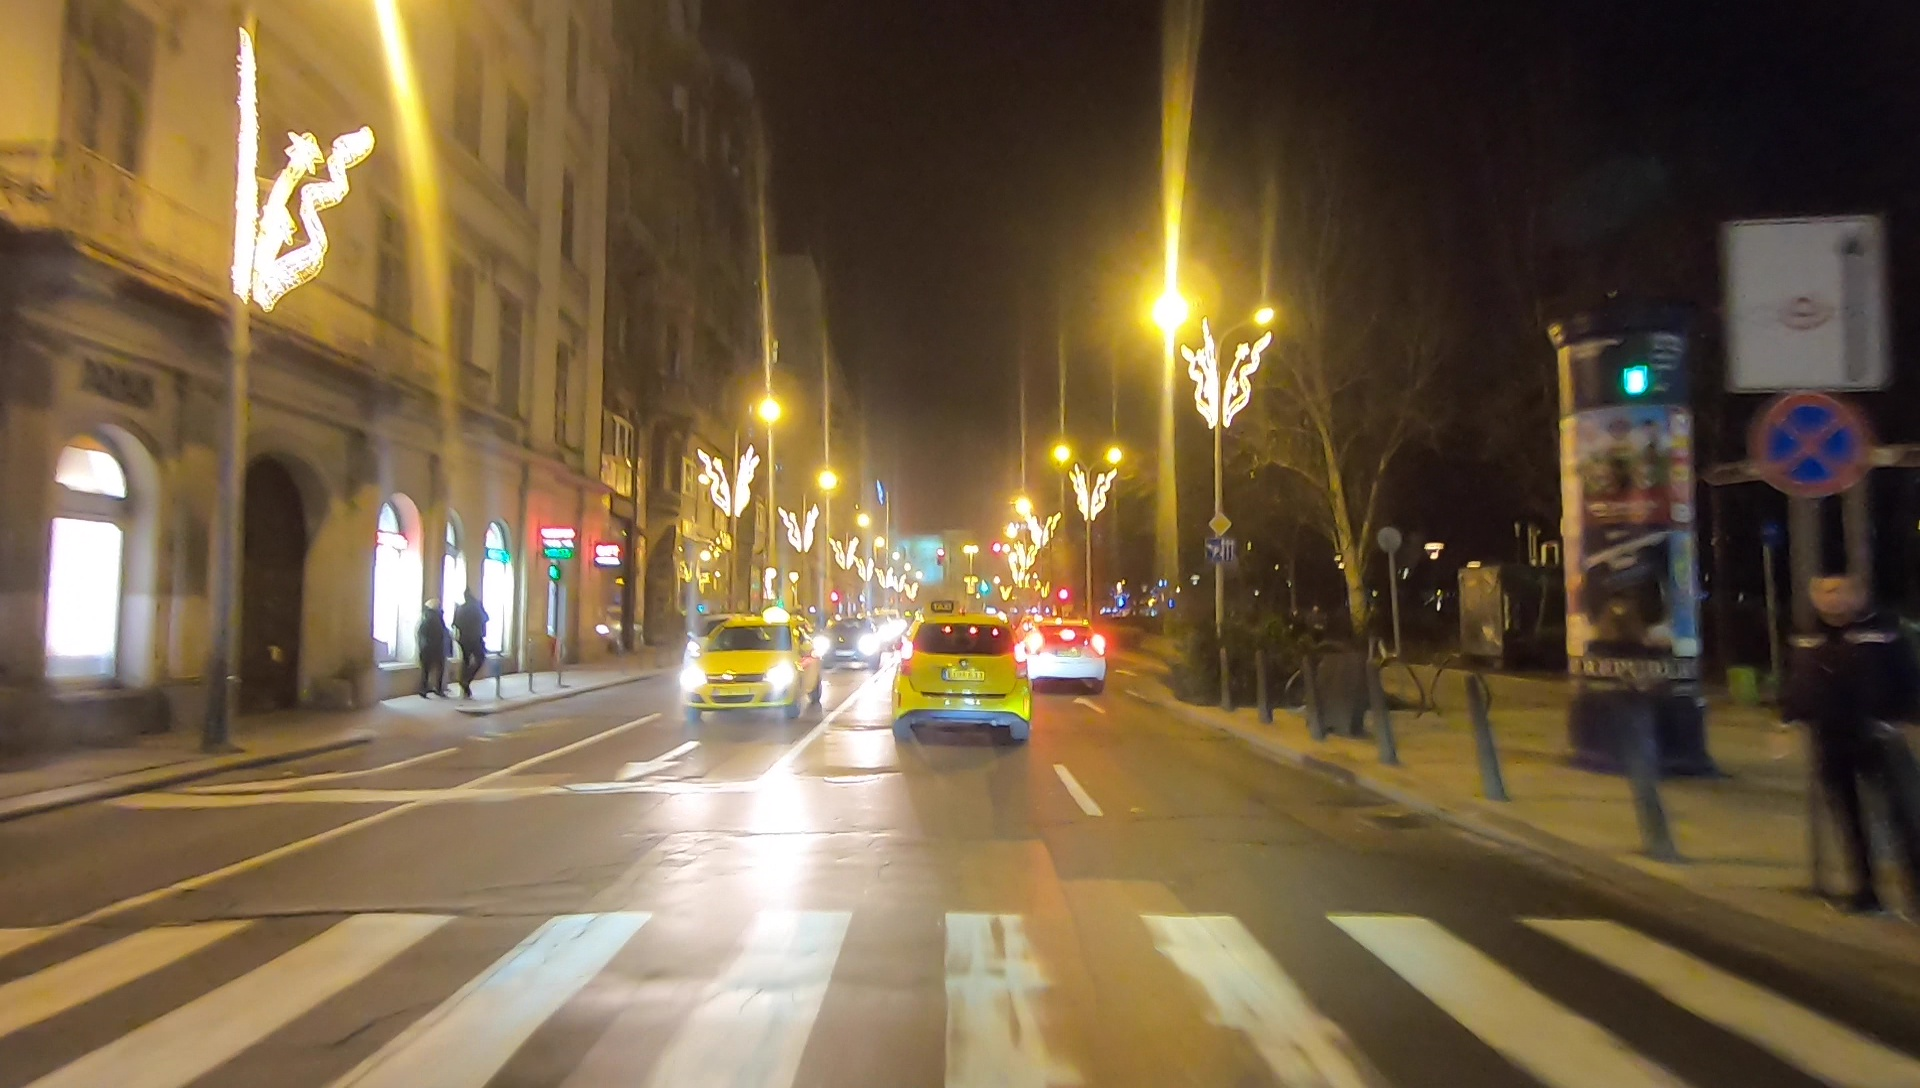person: (1789, 563, 1915, 928), (451, 589, 488, 693), (415, 599, 447, 700)
